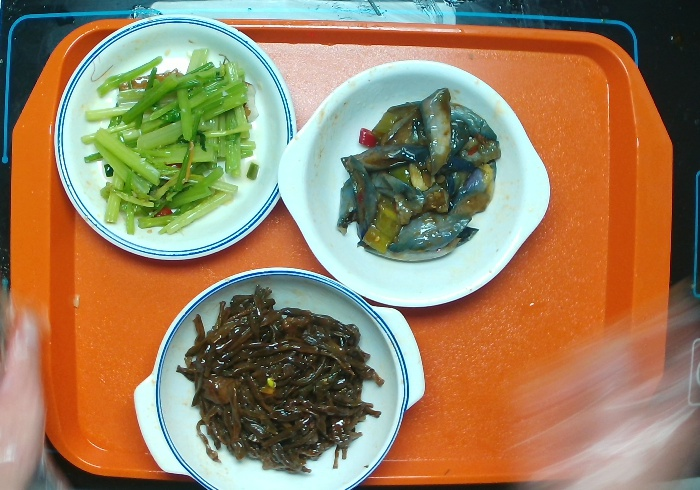HZYJPL-Dai_Er_Bai_Yuan_Wan: (273, 56, 556, 315)
HZYJPL-Lan_Bian_Dai_Er_Wan: (126, 264, 432, 490)
HZYJPL-Lan_Bian_Yuan_Die: (50, 11, 300, 264)
